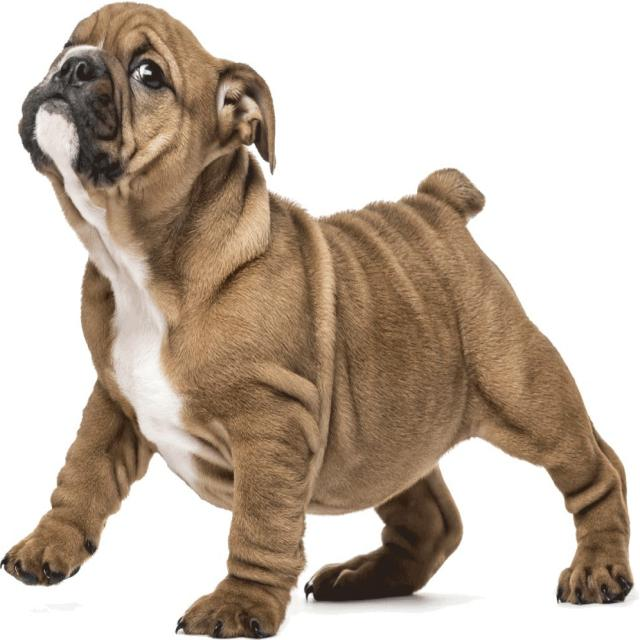dog: (2, 4, 634, 637)
